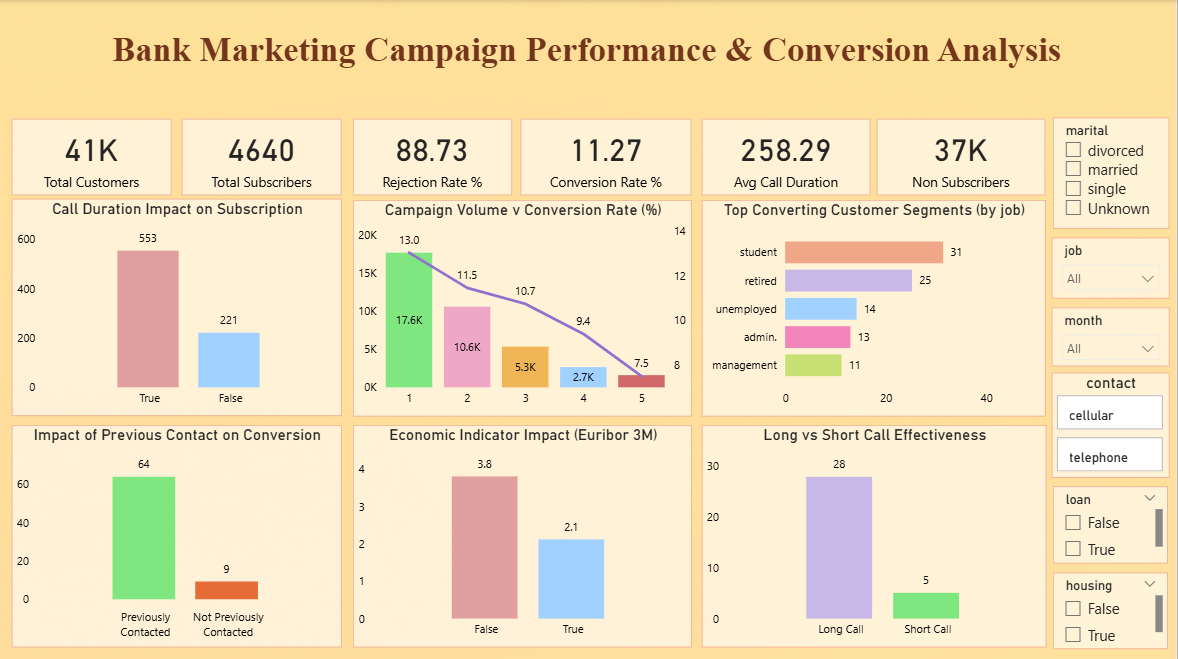

Layout of this report page (visuals, bound fields, positions):
{"tool":"powerbi","page":{"name":"Page 1","canvas":[1280,720],"ordinal":0},"visuals":[{"type":"columnChart","title":"Call Duration Impact on Subscription","fields":{"Category":["Bank_Dataset.subscription"],"Y":["Bank_Dataset.Avg Call Duration"]},"box":[14.9,215.9,358.4,236.2],"z":0},{"type":"lineClusteredColumnComboChart","title":"Campaign Volume v Conversion Rate (%) ","fields":{"Category":["Bank_Dataset.campaign"],"Y2":["Bank_Dataset.Conversion Rate %"],"Y":["Bank_Dataset.Total Customers"]},"box":[385.6,217.2,367.9,234.9],"z":1000},{"type":"clusteredBarChart","title":"Top Converting Customer Segments (by job)","fields":{"Category":["Bank_Dataset.job"],"Y":["Bank_Dataset.Conversion Rate %"]},"box":[764.4,217.2,373.4,234.9],"z":2000},{"type":"clusteredColumnChart","title":"Impact of Previous Contact on Conversion","fields":{"Category":["Bank_Dataset.Previous_Contact_Status"],"Y":["Bank_Dataset.Conversion Rate %"]},"box":[14.9,461.6,358.4,241.7],"z":3000},{"type":"clusteredColumnChart","title":"Economic Indicator Impact (Euribor 3M)","fields":{"Category":["Bank_Dataset.subscription"],"Y":["Avg(Bank_Dataset.euribor3m)"]},"box":[385.6,461.6,367.9,241.7],"z":4000},{"type":"card","fields":{"Values":["Bank_Dataset.Total Customers"]},"box":[14.9,129,173.8,82.8],"z":5000},{"type":"card","fields":{"Values":["Bank_Dataset.Total Subscribers"]},"box":[199.6,129,173.8,82.8],"z":6000},{"type":"card","fields":{"Values":["Bank_Dataset.Conversion Rate %"]},"box":[567.5,129,186,82.8],"z":7000},{"type":"card","fields":{"Values":["Bank_Dataset.Avg Call Duration"]},"box":[764.4,129,183.3,82.8],"z":8000},{"type":"slicer","fields":{"Values":["Bank_Dataset.job"]},"box":[1144.5,258,127.6,66.5],"z":9000},{"type":"card","fields":{"Values":["Bank_Dataset.Rejection Rate %"]},"box":[385.6,129,172.4,82.8],"z":10000},{"type":"card","fields":{"Values":["Bank_Dataset.Non Subscribers"]},"box":[954.4,129,183.3,82.8],"z":11000},{"type":"clusteredColumnChart","title":"Long vs Short Call Effectiveness","fields":{"Category":["Bank_Dataset.Call Category"],"Y":["Bank_Dataset.Conversion Rate by Call Category"]},"box":[764.4,461.6,374.7,241.7],"z":12000},{"type":"textbox","box":[80.1,27.2,1118.7,58.4],"z":13000},{"type":"slicer","fields":{"Values":["Bank_Dataset.month"]},"box":[1144.5,334,127.6,63.8],"z":14000},{"type":"advancedSlicerVisual","fields":{"Values":["Bank_Dataset.contact"]},"box":[1144.5,404.6,127.6,114],"z":15000},{"type":"slicer","fields":{"Values":["Bank_Dataset.loan"]},"box":[1145.9,528.1,124.9,84.2],"z":16000},{"type":"slicer","fields":{"Values":["Bank_Dataset.housing"]},"box":[1145.9,621.8,124.9,82.8],"z":17000},{"type":"slicer","fields":{"Values":["Bank_Dataset.marital"]},"box":[1145.9,127.6,126.3,120.8],"z":18000}]}

Visuals, with their boxes in screenshot pixels (x1, y1, x2, y2), scaled from the page's 1280x720 canvas onto the 1178x659 screenshot:
"Call Duration Impact on Subscription" columnChart: bbox(14, 198, 344, 414)
"Campaign Volume v Conversion Rate (%) " lineClusteredColumnComboChart: bbox(355, 199, 693, 414)
"Top Converting Customer Segments (by job)" clusteredBarChart: bbox(703, 199, 1047, 414)
"Impact of Previous Contact on Conversion" clusteredColumnChart: bbox(14, 422, 344, 644)
"Economic Indicator Impact (Euribor 3M)" clusteredColumnChart: bbox(355, 422, 693, 644)
card - Bank_Dataset.Total Customers: bbox(14, 118, 174, 194)
card - Bank_Dataset.Total Subscribers: bbox(184, 118, 344, 194)
card - Bank_Dataset.Conversion Rate %: bbox(522, 118, 693, 194)
card - Bank_Dataset.Avg Call Duration: bbox(703, 118, 872, 194)
slicer - Bank_Dataset.job: bbox(1053, 236, 1171, 297)
card - Bank_Dataset.Rejection Rate %: bbox(355, 118, 514, 194)
card - Bank_Dataset.Non Subscribers: bbox(878, 118, 1047, 194)
"Long vs Short Call Effectiveness" clusteredColumnChart: bbox(703, 422, 1048, 644)
textbox: bbox(74, 25, 1103, 78)
slicer - Bank_Dataset.month: bbox(1053, 306, 1171, 364)
advancedSlicerVisual - Bank_Dataset.contact: bbox(1053, 370, 1171, 475)
slicer - Bank_Dataset.loan: bbox(1055, 483, 1170, 560)
slicer - Bank_Dataset.housing: bbox(1055, 569, 1170, 645)
slicer - Bank_Dataset.marital: bbox(1055, 117, 1171, 227)
